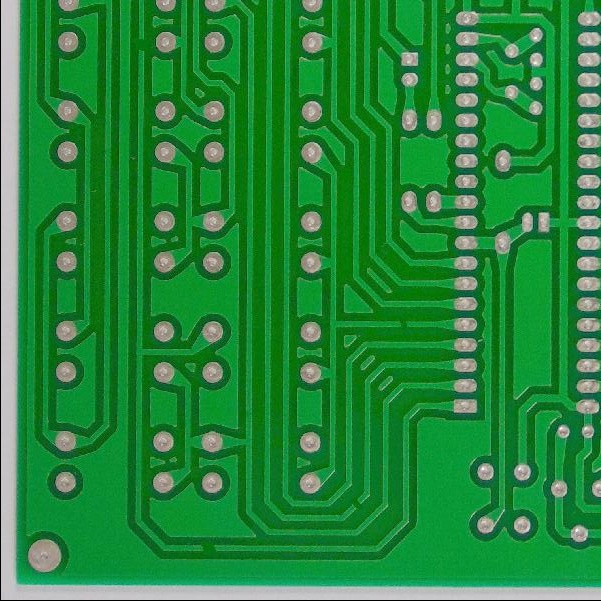open_circuit: (194, 541, 222, 556), (392, 316, 411, 334), (346, 497, 367, 512), (134, 35, 148, 56)
